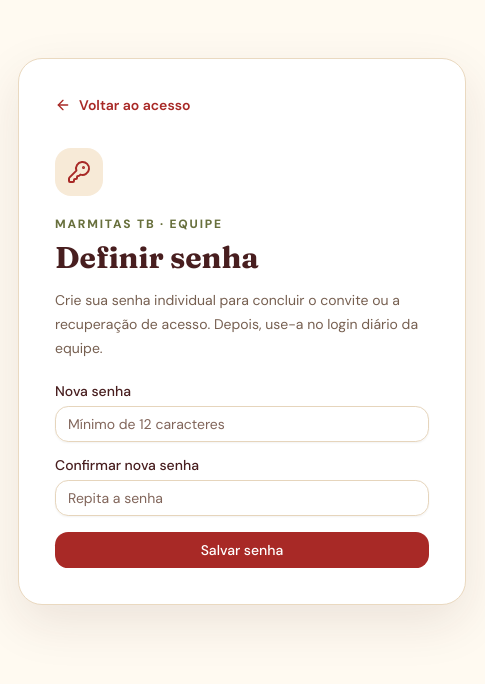
Test: SetPassword › não expõe detalhes do link de convite ou recuperação quando a atualização falha
Type "senha-nova-segura-123" into the password field labelled "Nova senha" at x=242, y=424, box [55, 406, 429, 442]
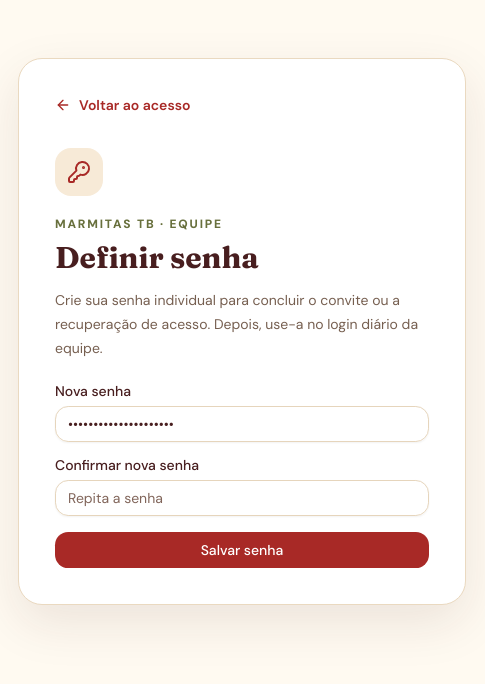
Type "senha-nova-segura-123" into the password field labelled "Confirmar nova senha" at x=242, y=498, box [55, 480, 429, 516]
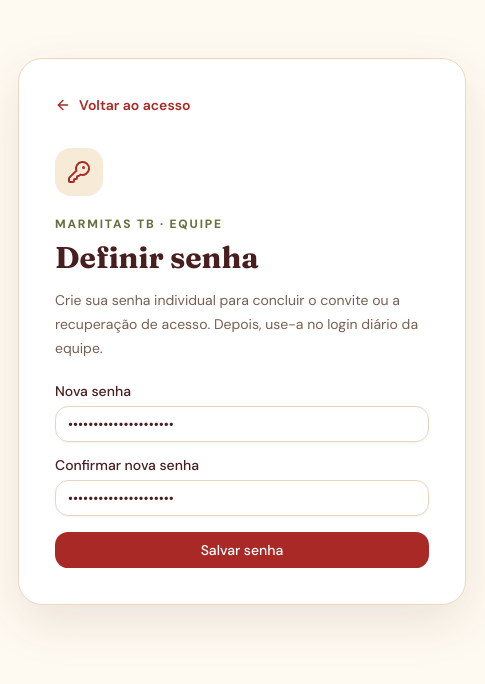
Click the button "Salvar senha" at x=242, y=550, box [55, 532, 429, 568]
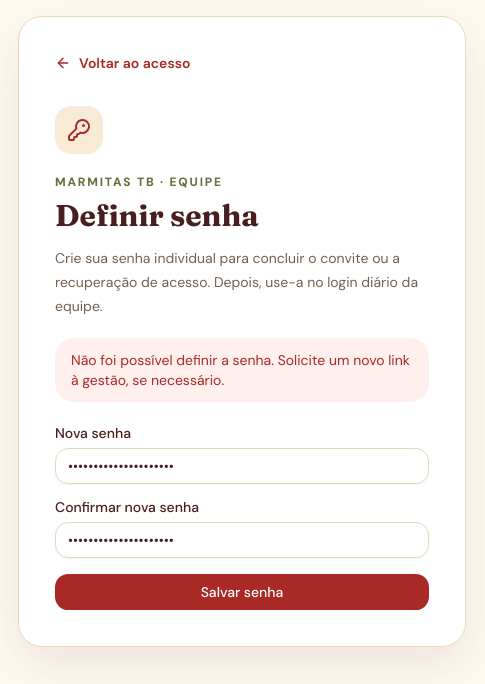
Check: the message shows "Não foi possível definir a senha", box [71, 350, 410, 388]
